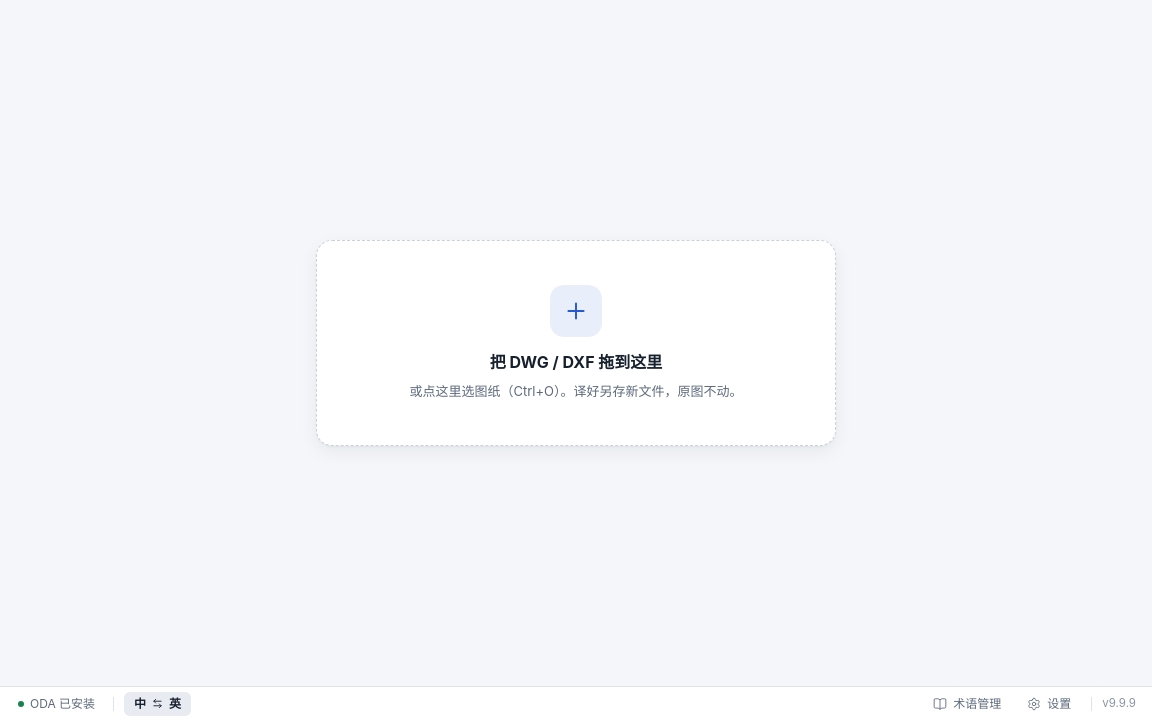
Scenario: glossary › does not list the built-in vocabulary
Click the button "术语管理" at [967, 704], box [923,690,1011,716]
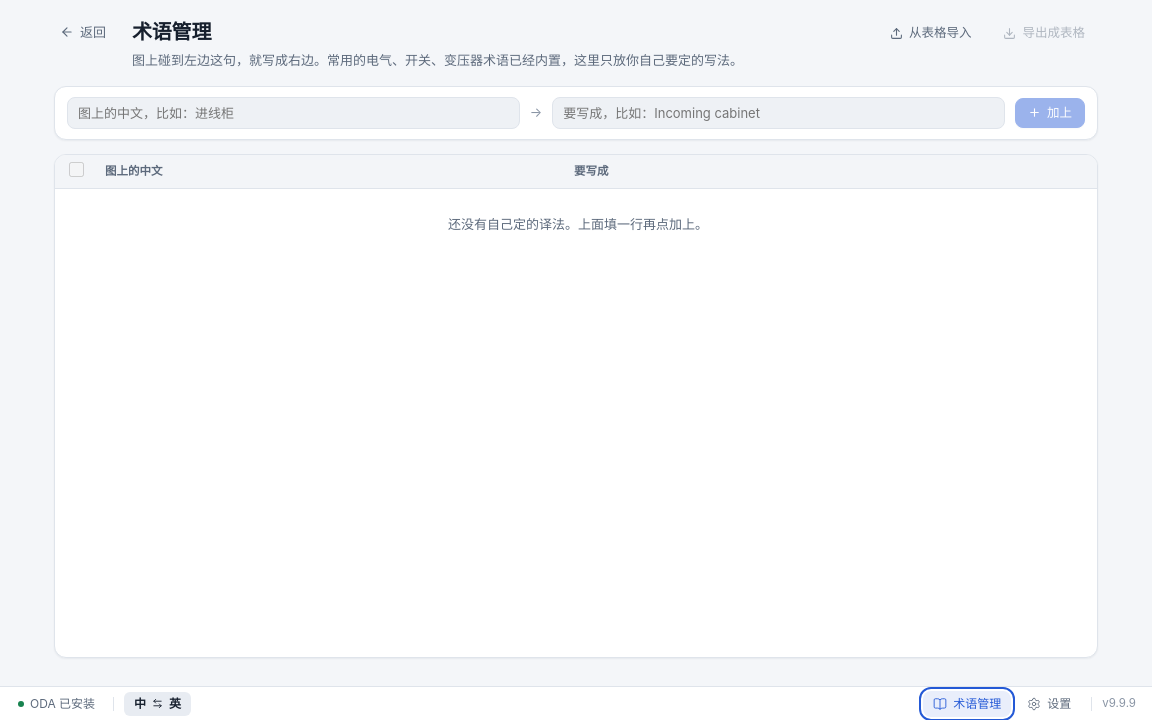
Check: the text "还没有自己定的译法。上面填一行再点加上。" is shown, box [55,189,1097,261]
